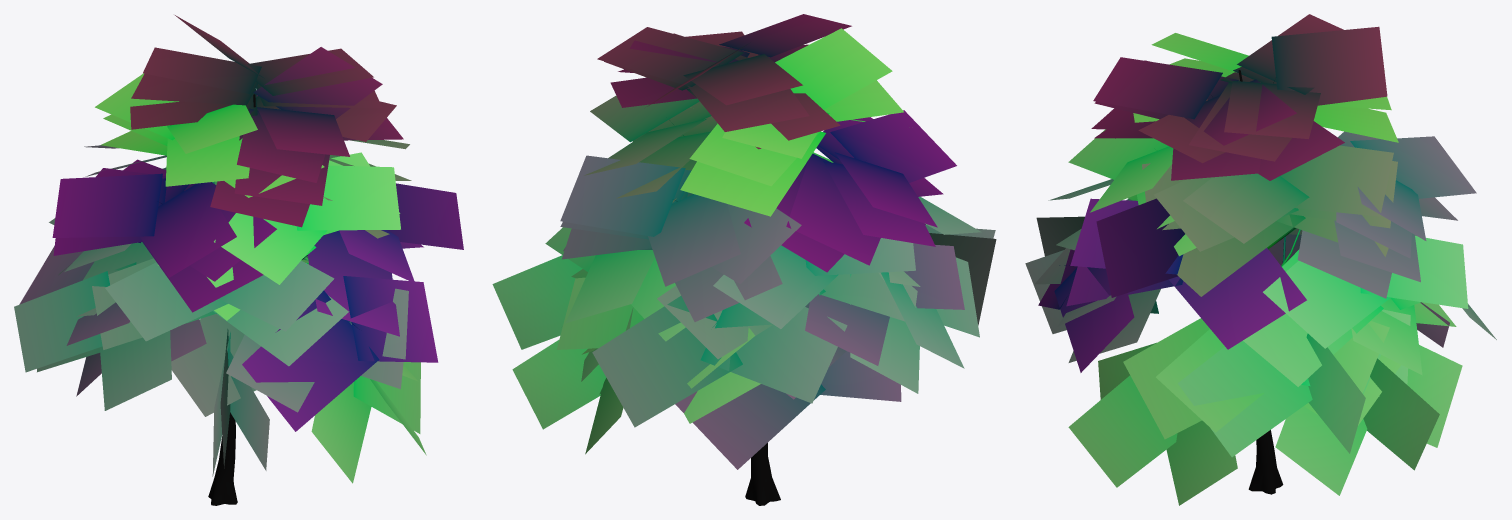
The model's file is Tree_1_8.fbx.
3 views of the same model, side by side, from view 1: azimuth 30°, elevation 25°; view 2: azimuth 150°, elevation 25°; view 3: azimuth 270°, elevation 25° (orthographic). The views are drawn at different scales.
Visible parts, largest first — view 1: _8; view 2: _8; view 3: _8.
Part boxes in pixels (x1,y1,x2,y2): _8: (14, 15, 463, 505); _8: (492, 14, 996, 505); _8: (1025, 14, 1496, 505).
Size of the model in its own units: 1272 by 1329 by 1229.
